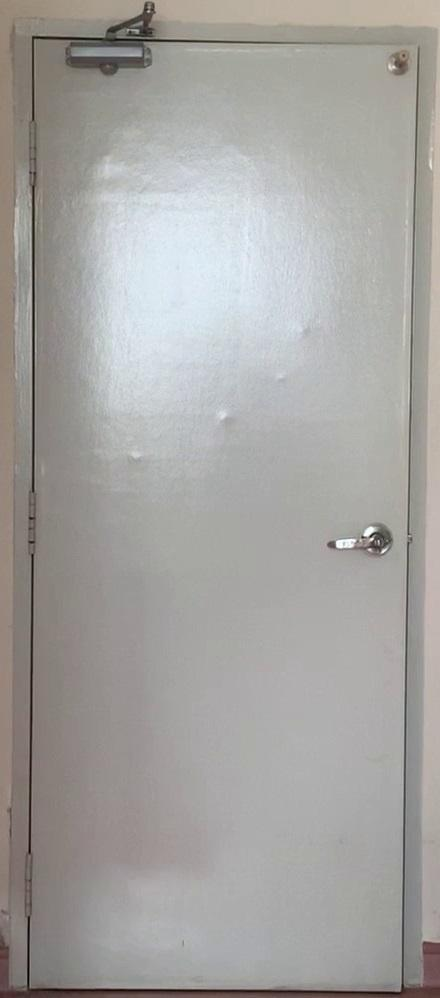door: (11, 25, 438, 993)
